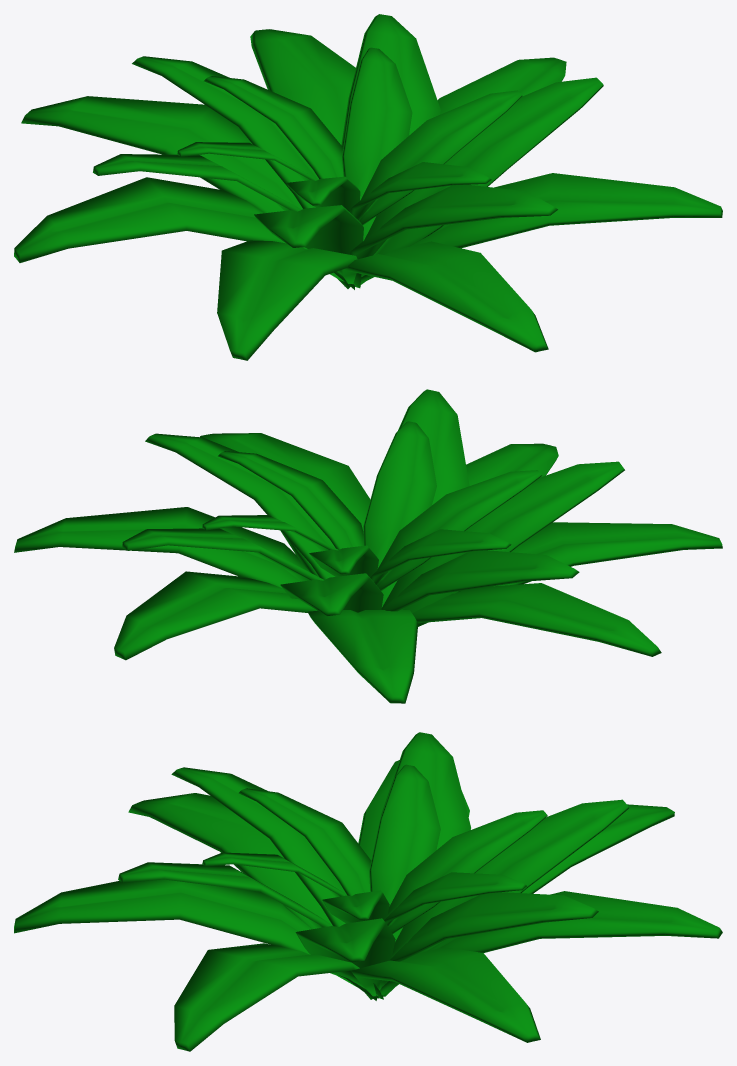
File: purplePlant.glb
3 renders of one model, top to bottom at view 1: azimuth 30°, elevation 25°; view 2: azimuth 150°, elevation 25°; view 3: azimuth 270°, elevation 25°, orthographic. The views are drawn at different scales.
Parts seen in each view (by area): view 1: PlantLeavs; view 2: PlantLeavs; view 3: PlantLeavs.
Boxes of the visible parts, box(x1,y1,x2,y2) form: PlantLeavs: box(14, 14, 722, 360); PlantLeavs: box(14, 389, 722, 703); PlantLeavs: box(14, 732, 722, 1051).
Bounding box in the file's own units: 2.37 × 0.6097 × 2.46.
